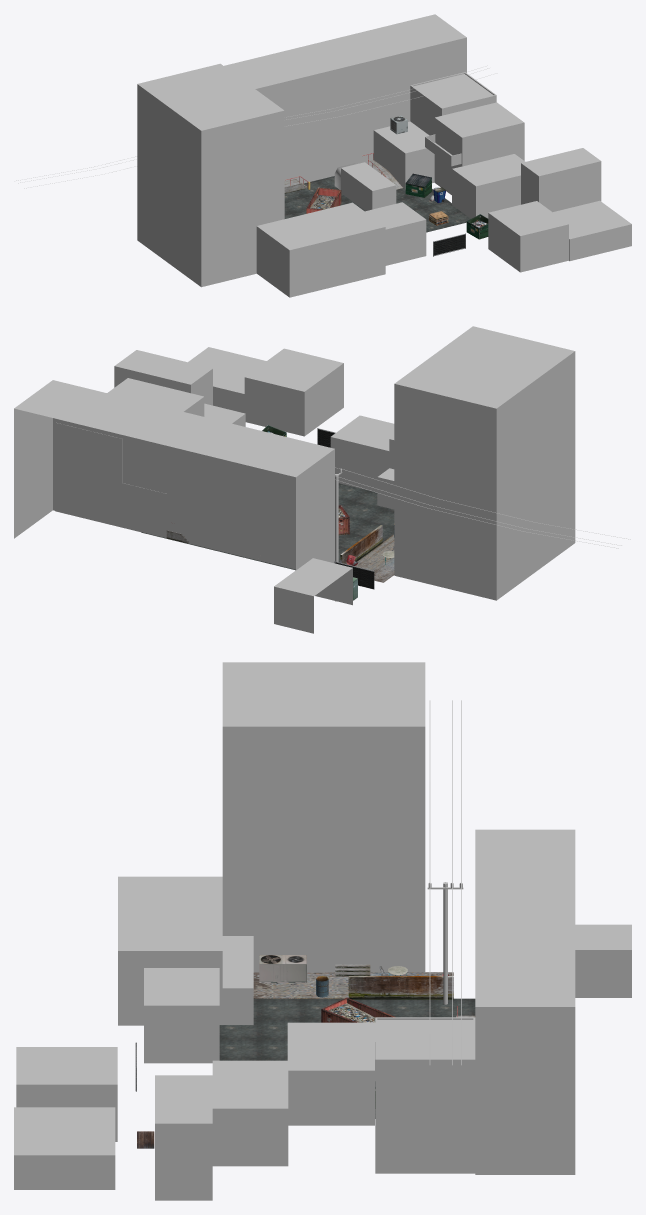
The model's file is level1_5.fbx.
3 views of the same model, one above another, from view 1: azimuth 30°, elevation 25°; view 2: azimuth 150°, elevation 25°; view 3: azimuth 270°, elevation 25° (orthographic). The views are drawn at different scales.
Visible parts, largest first — view 1: aptBuild1, warehouse1, derelictWarehouse, building1, apt2, apt3, apt1, building2, smallWarehouse1, modernApt2, street1, truck1 (+5 smaller); view 2: aptBuild1, warehouse1, building1, apt3, shop1, modernApt2, apt1, street1, smallWarehouse1, apt2, patio, derelictWarehouse (+3 smaller); view 3: aptBuild1, warehouse1, building1, derelictWarehouse, apt2, smallWarehouse1, building2, apt1, modernApt2, apt3, street1, shop1 (+4 smaller).
Part boxes in pixels (bbox=[...]): aptBuild1: bbox=[137, 63, 284, 287]; warehouse1: bbox=[224, 14, 466, 183]; derelictWarehouse: bbox=[256, 202, 385, 297]; building1: bbox=[373, 72, 496, 189]; apt2: bbox=[434, 102, 524, 194]; apt3: bbox=[488, 201, 568, 272]; apt1: bbox=[521, 148, 601, 212]; building2: bbox=[452, 154, 525, 218]; smallWarehouse1: bbox=[553, 200, 631, 261]; modernApt2: bbox=[365, 202, 426, 265]; street1: bbox=[284, 176, 470, 232]; truck1: bbox=[341, 162, 396, 210]; aptBuild1: bbox=[394, 326, 575, 600]; warehouse1: bbox=[14, 380, 334, 570]; building1: bbox=[55, 422, 167, 537]; apt3: bbox=[244, 348, 343, 436]; shop1: bbox=[274, 558, 352, 633]; modernApt2: bbox=[330, 415, 394, 492]; apt1: bbox=[114, 350, 212, 405]; street1: bbox=[141, 483, 394, 570]; smallWarehouse1: bbox=[188, 347, 266, 413]; apt2: bbox=[107, 378, 204, 416]; patio: bbox=[355, 534, 394, 582]; derelictWarehouse: bbox=[377, 436, 394, 509]; aptBuild1: bbox=[222, 662, 425, 972]; warehouse1: bbox=[475, 829, 575, 1174]; building1: bbox=[375, 1017, 475, 1173]; derelictWarehouse: bbox=[118, 876, 253, 1025]; apt2: bbox=[287, 1022, 374, 1125]; smallWarehouse1: bbox=[14, 1107, 115, 1189]; building2: bbox=[212, 1060, 288, 1166]; apt1: bbox=[155, 1075, 212, 1200]; modernApt2: bbox=[144, 968, 219, 1063]; apt3: bbox=[16, 1047, 117, 1141]; street1: bbox=[219, 998, 475, 1118]; shop1: bbox=[575, 924, 631, 997].
Size of the model in its own units: 8 by 2.84 by 5.53.
